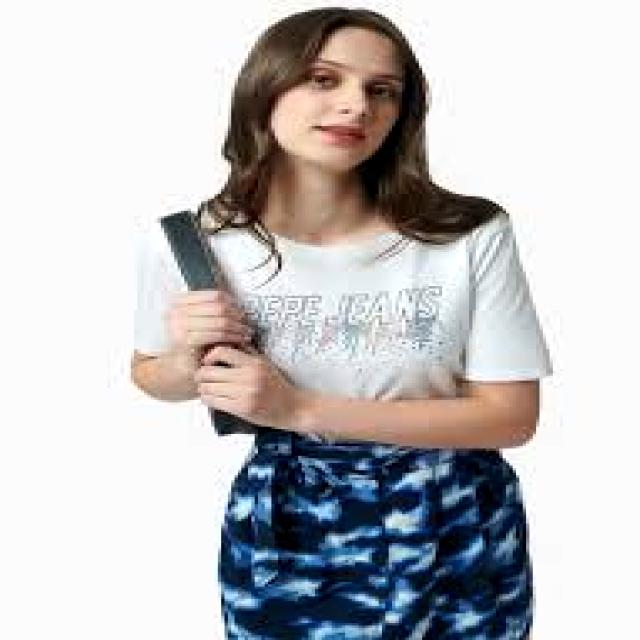face: (272, 27, 405, 172)
lower-wear: (218, 430, 532, 639)
top-wear: (136, 210, 552, 415)
